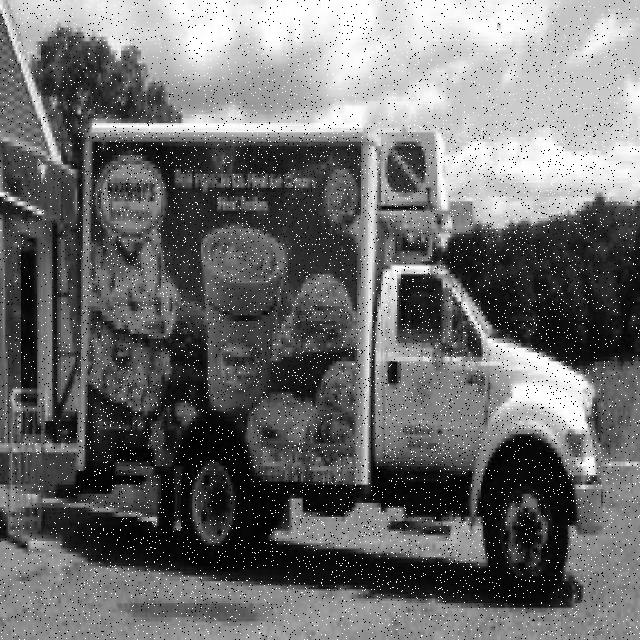Box Truck: (77, 123, 606, 598)
